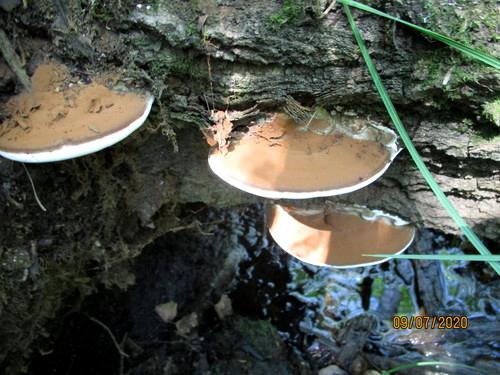Ganoderma - Fruit Body: (206, 96, 395, 198), (0, 58, 157, 164), (263, 204, 416, 269)
